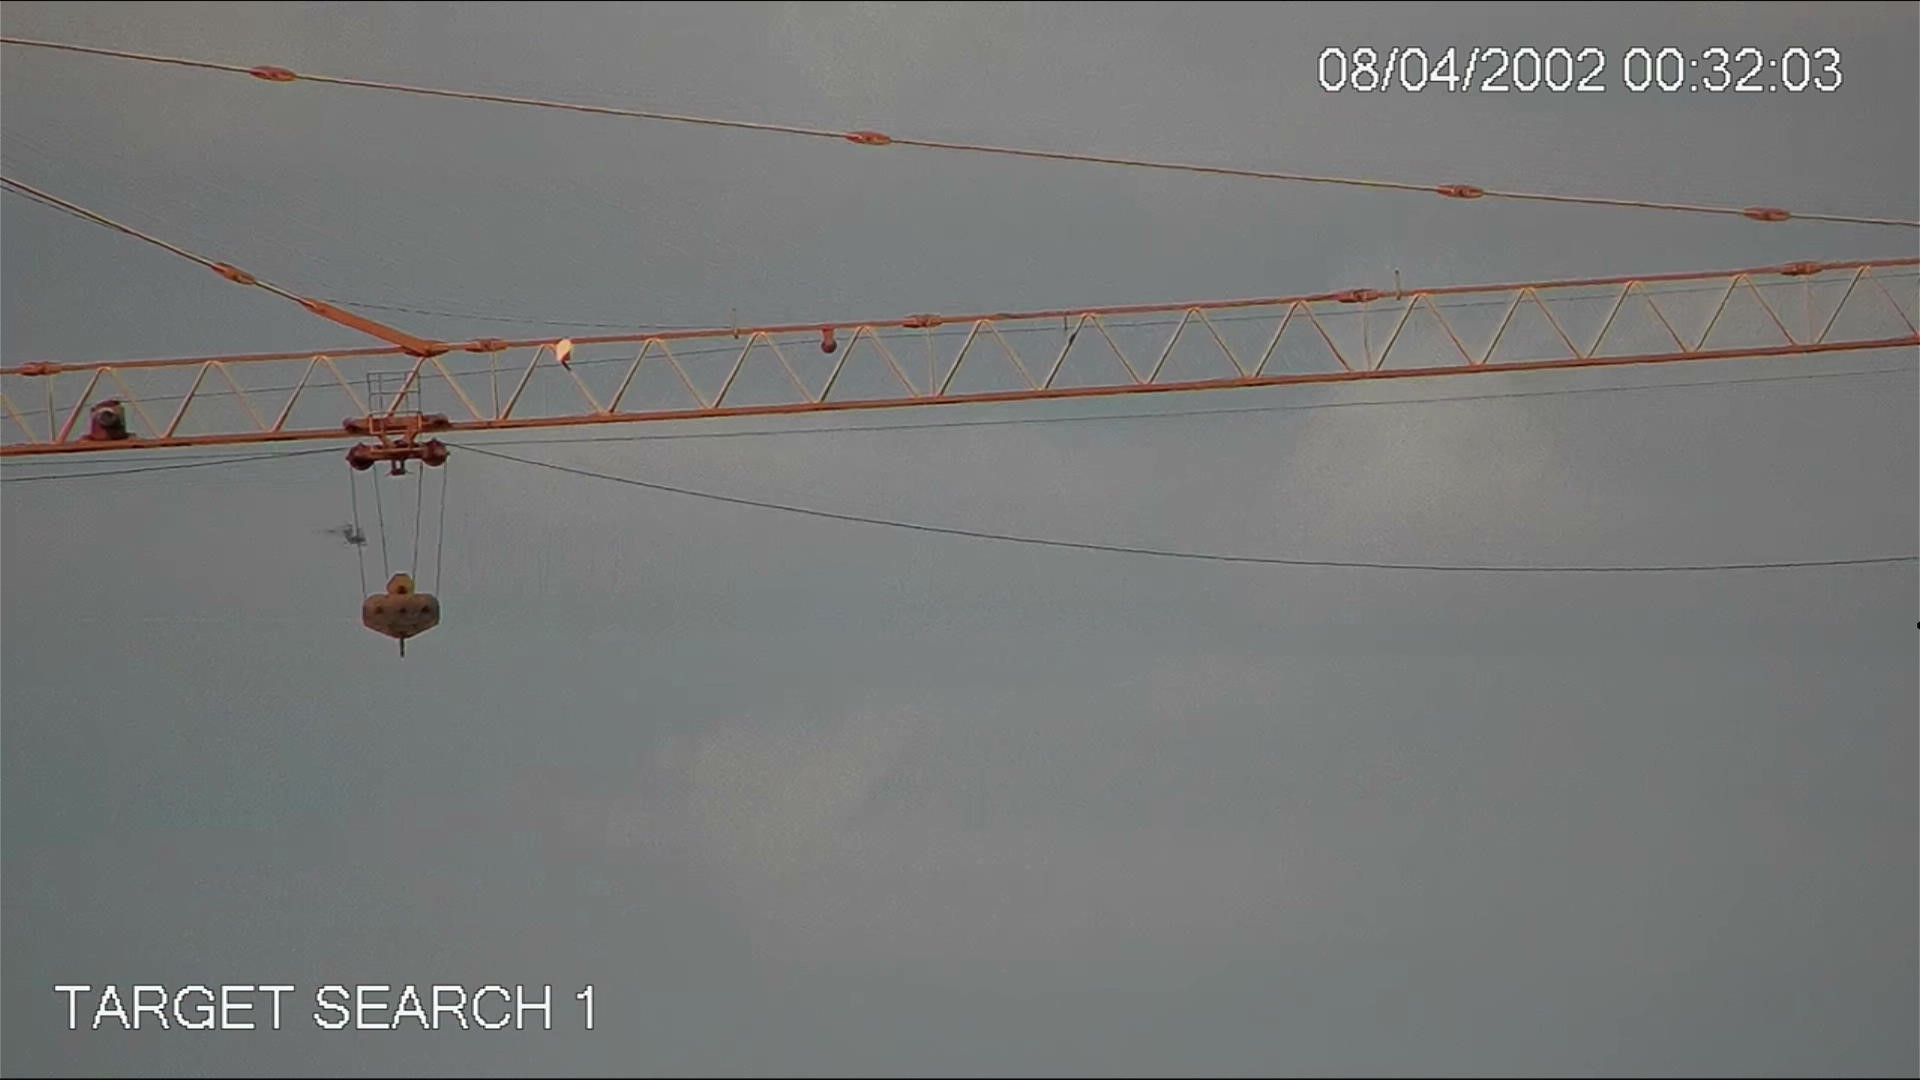SU_30: (309, 512, 375, 551)
